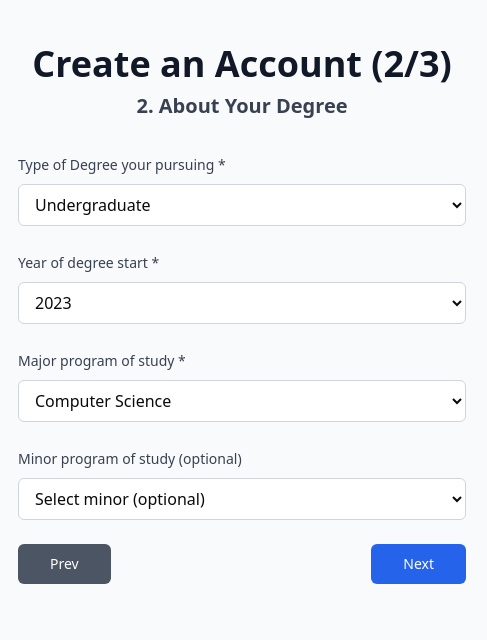
Test: CreateAccount2 › shows error when major and minor programs are the same
Select "Undergraduate" in the dropdown labelled "Type of Degree your pursuing *": (242,205) [18,184,466,226]
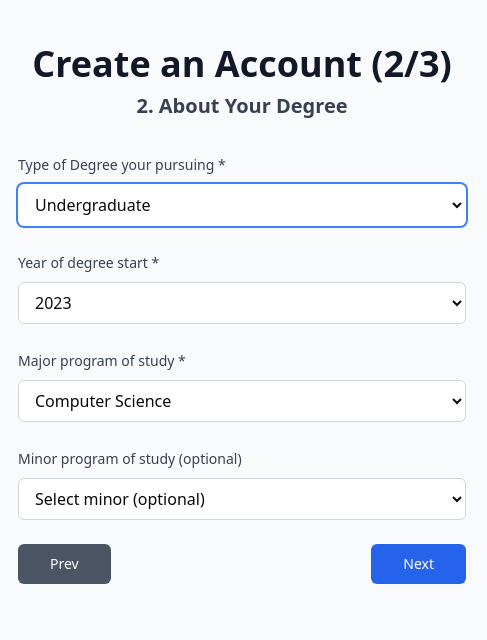
Select "2023" in the dropdown labelled "Year of degree start *": (242,303) [18,282,466,324]
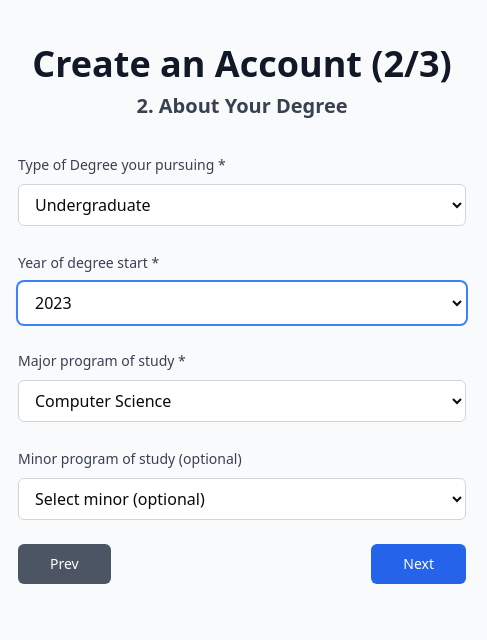
Select "Computer Science" in the dropdown labelled "Major program of study *": (242,401) [18,380,466,422]
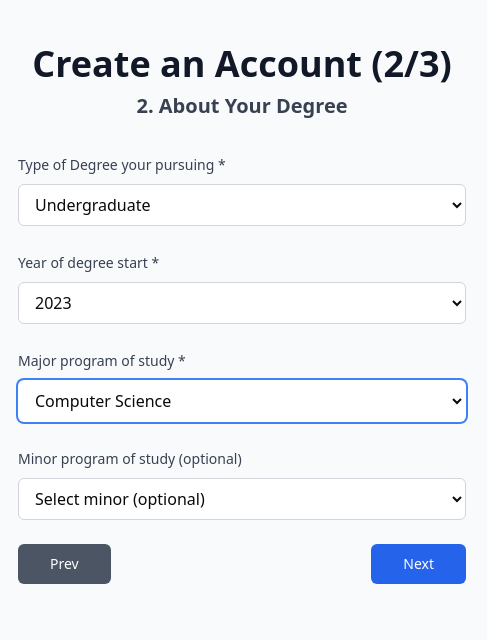
Select "Computer Science" in the dropdown labelled "Minor program of study (optional)": (242,499) [18,478,466,520]
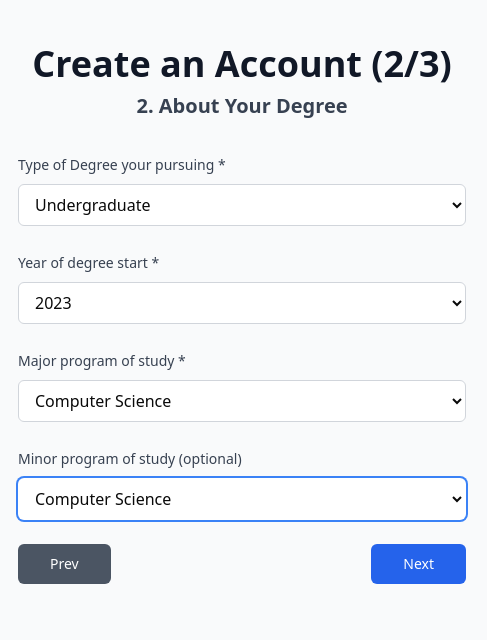
Click the button "Next": (419,564) [371,544,466,584]
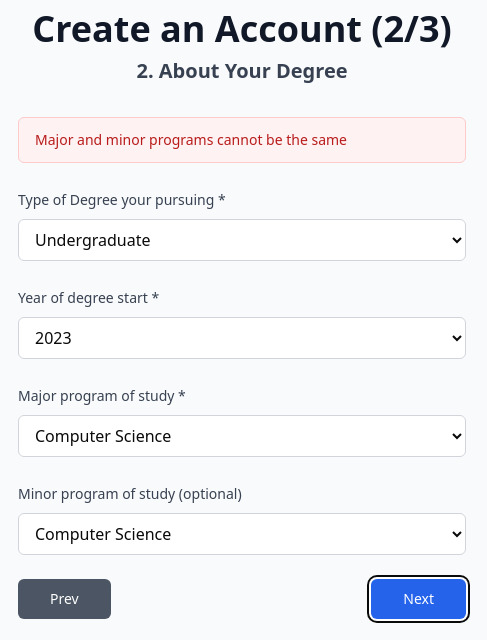
Now the text "Major and minor programs cannot be the same" is shown, box [18,117,466,163]
